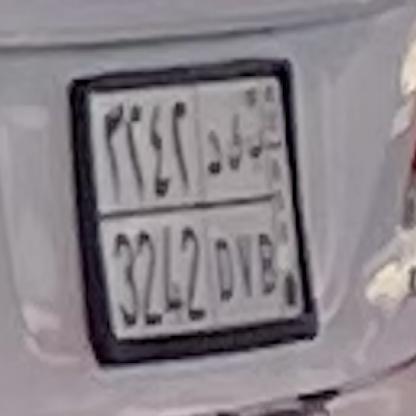english: (89, 201, 306, 325)
